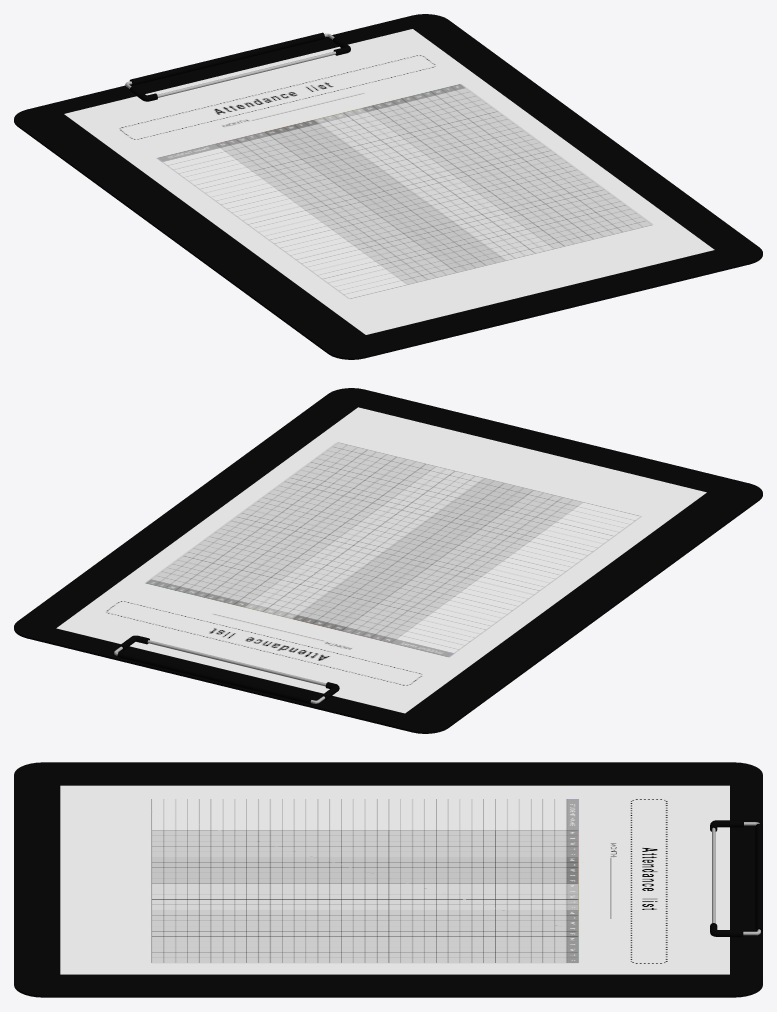
File: Attendance list and paper holder.fbx
3 renders of one model, top to bottom at view 1: azimuth 30°, elevation 25°; view 2: azimuth 150°, elevation 25°; view 3: azimuth 270°, elevation 25°, orthographic. The views are drawn at different scales.
Visible parts, largest first — view 1: Attendance list, Paper holder; view 2: Attendance list, Paper holder; view 3: Attendance list, Paper holder.
Boxes of the visible parts, x1,y1,x2,y2 form: Attendance list: [64, 29, 714, 334]; Paper holder: [14, 14, 762, 359]; Attendance list: [56, 407, 706, 713]; Paper holder: [14, 388, 762, 733]; Attendance list: [60, 785, 729, 974]; Paper holder: [14, 762, 762, 997].
Bounding box in the file's own units: 22.19 × 0.3847 × 30.11.
